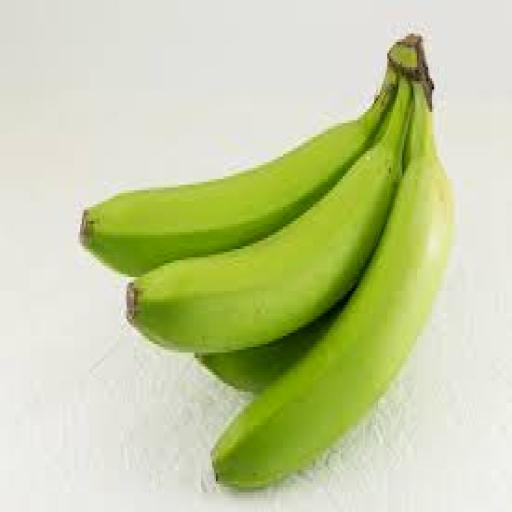banana-unripe: (96, 12, 476, 512)
